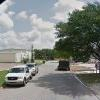Car: (3, 58, 38, 89)
